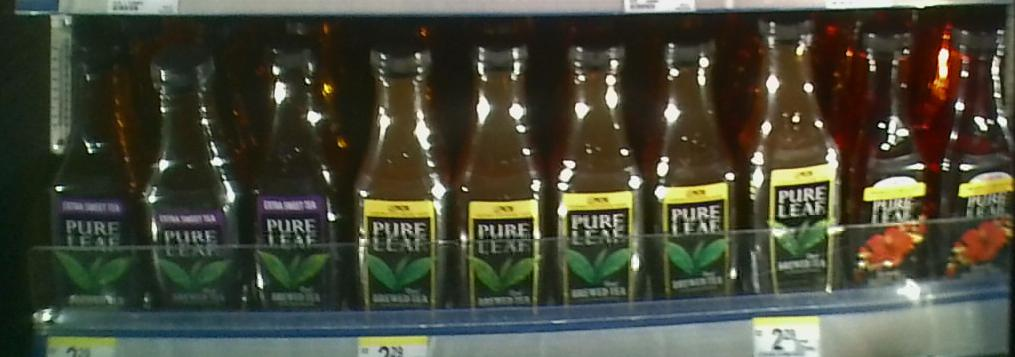bottle: (145, 37, 258, 311), (745, 7, 846, 299), (349, 45, 452, 311), (48, 32, 147, 308), (448, 45, 550, 310), (649, 30, 745, 305), (255, 34, 348, 311), (551, 45, 648, 309), (843, 12, 931, 298), (929, 5, 1015, 293)
